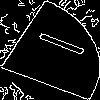I: (25, 25, 87, 58)
